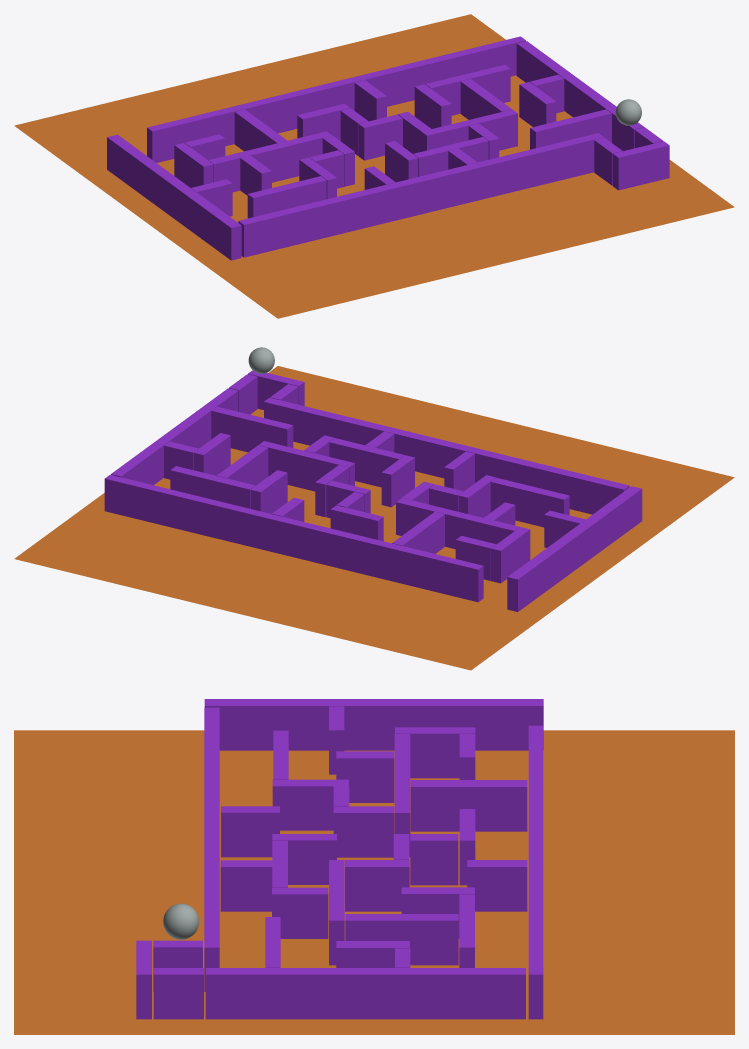
Rendered from mazelevel1.fbx.
3 views of the same model, one above another, from view 1: azimuth 30°, elevation 25°; view 2: azimuth 150°, elevation 25°; view 3: azimuth 270°, elevation 25° (orthographic). The views are drawn at different scales.
Visible parts, largest first — view 1: Cube, Sphere; view 2: Cube, Sphere; view 3: Cube, Sphere.
Boxes of the visible parts, box(x1,y1,x2,y2) form: Cube: box(14, 14, 734, 318); Sphere: box(615, 99, 641, 125); Cube: box(14, 366, 734, 670); Sphere: box(248, 347, 274, 373); Cube: box(14, 699, 734, 1034); Sphere: box(163, 903, 198, 939).
Size of the model in its own units: 510 by 77.74 by 510.
